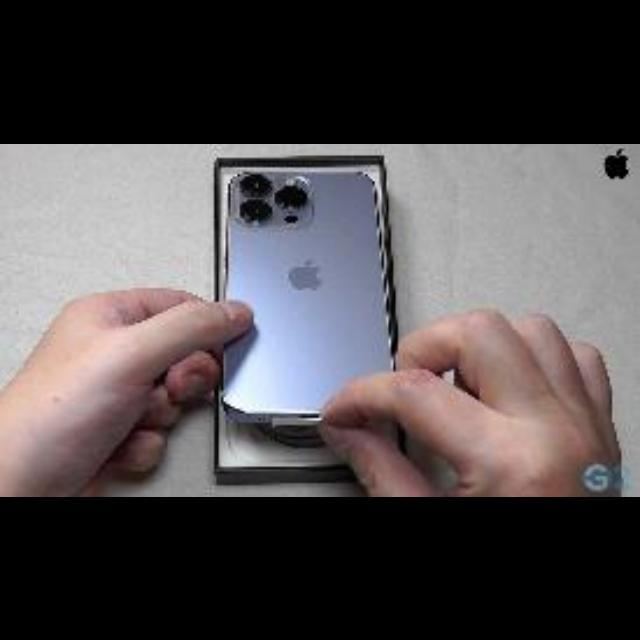Phone: (222, 169, 392, 425)
